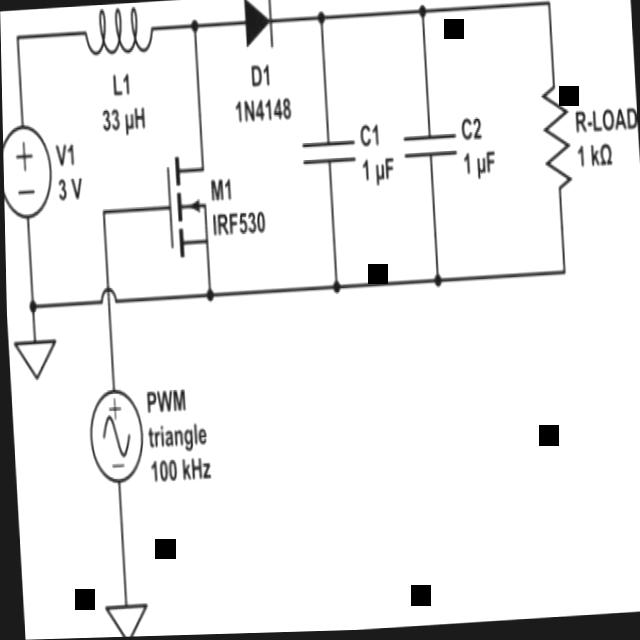capacitor: (394, 113, 465, 178), (293, 128, 358, 185)
diode: (234, 0, 287, 58)
ground: (9, 323, 58, 388), (98, 590, 147, 638)
inductor: (73, 6, 164, 65)
mosfet: (156, 146, 223, 266)
node: (198, 276, 217, 311), (22, 288, 42, 316), (427, 269, 446, 298), (312, 9, 332, 36), (325, 275, 344, 302), (414, 1, 434, 26), (186, 14, 202, 40)
resistor: (529, 69, 576, 217)
source: (78, 381, 147, 492), (2, 118, 55, 227)
